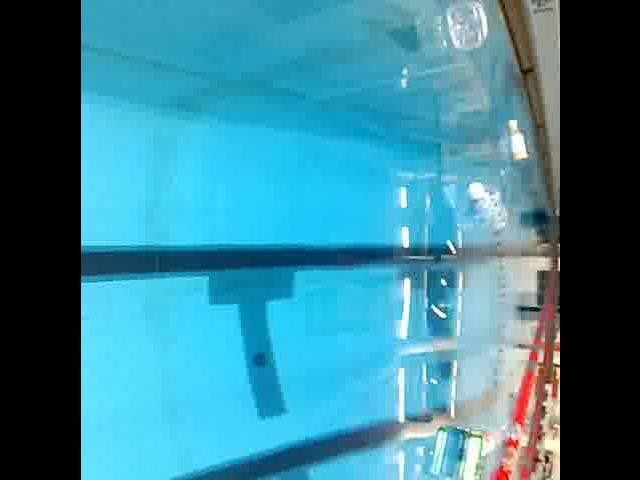Bottle: (458, 176, 516, 236), (442, 0, 490, 55), (504, 114, 530, 164)
Can: (443, 421, 487, 480)
